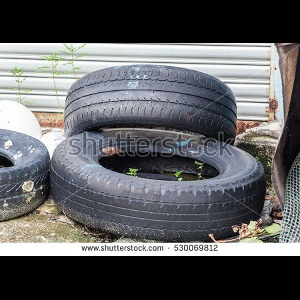tire: (49, 126, 266, 242), (65, 64, 237, 162), (1, 129, 51, 221)
